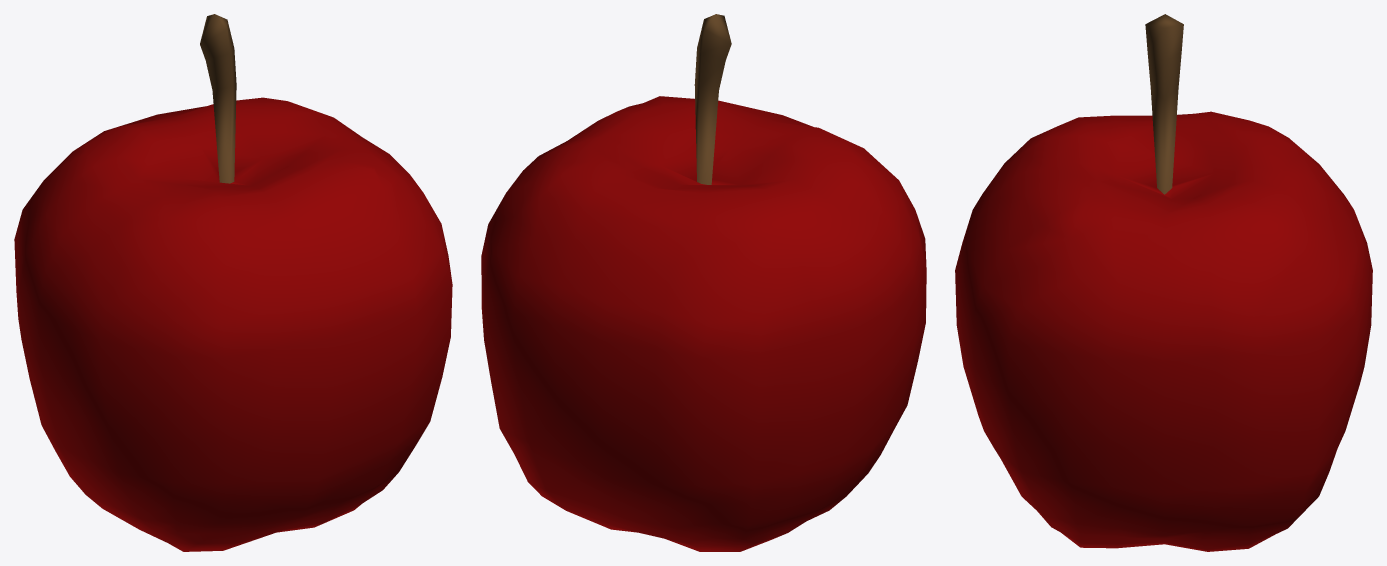
File: apple.fbx
3 views of the same model, side by side, from view 1: azimuth 30°, elevation 25°; view 2: azimuth 150°, elevation 25°; view 3: azimuth 270°, elevation 25° (orthographic).
Parts seen in each view (by area): view 1: pCube1; view 2: pCube1; view 3: pCube1.
Boxes of the visible parts, <box> form: pCube1: <box>14,14,452,551</box>; pCube1: <box>481,14,926,551</box>; pCube1: <box>955,14,1372,551</box>.
Size of the model in its own units: 2.38 by 2.99 by 2.3.
